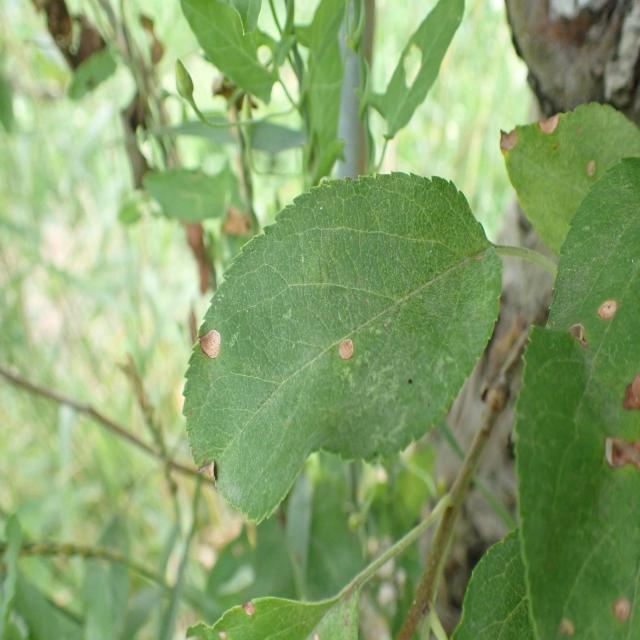frog-eye-leaf-spot: (181, 170, 503, 527), (512, 157, 640, 640)
